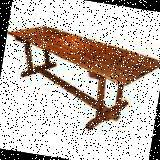Mesa: (0, 19, 159, 138)
